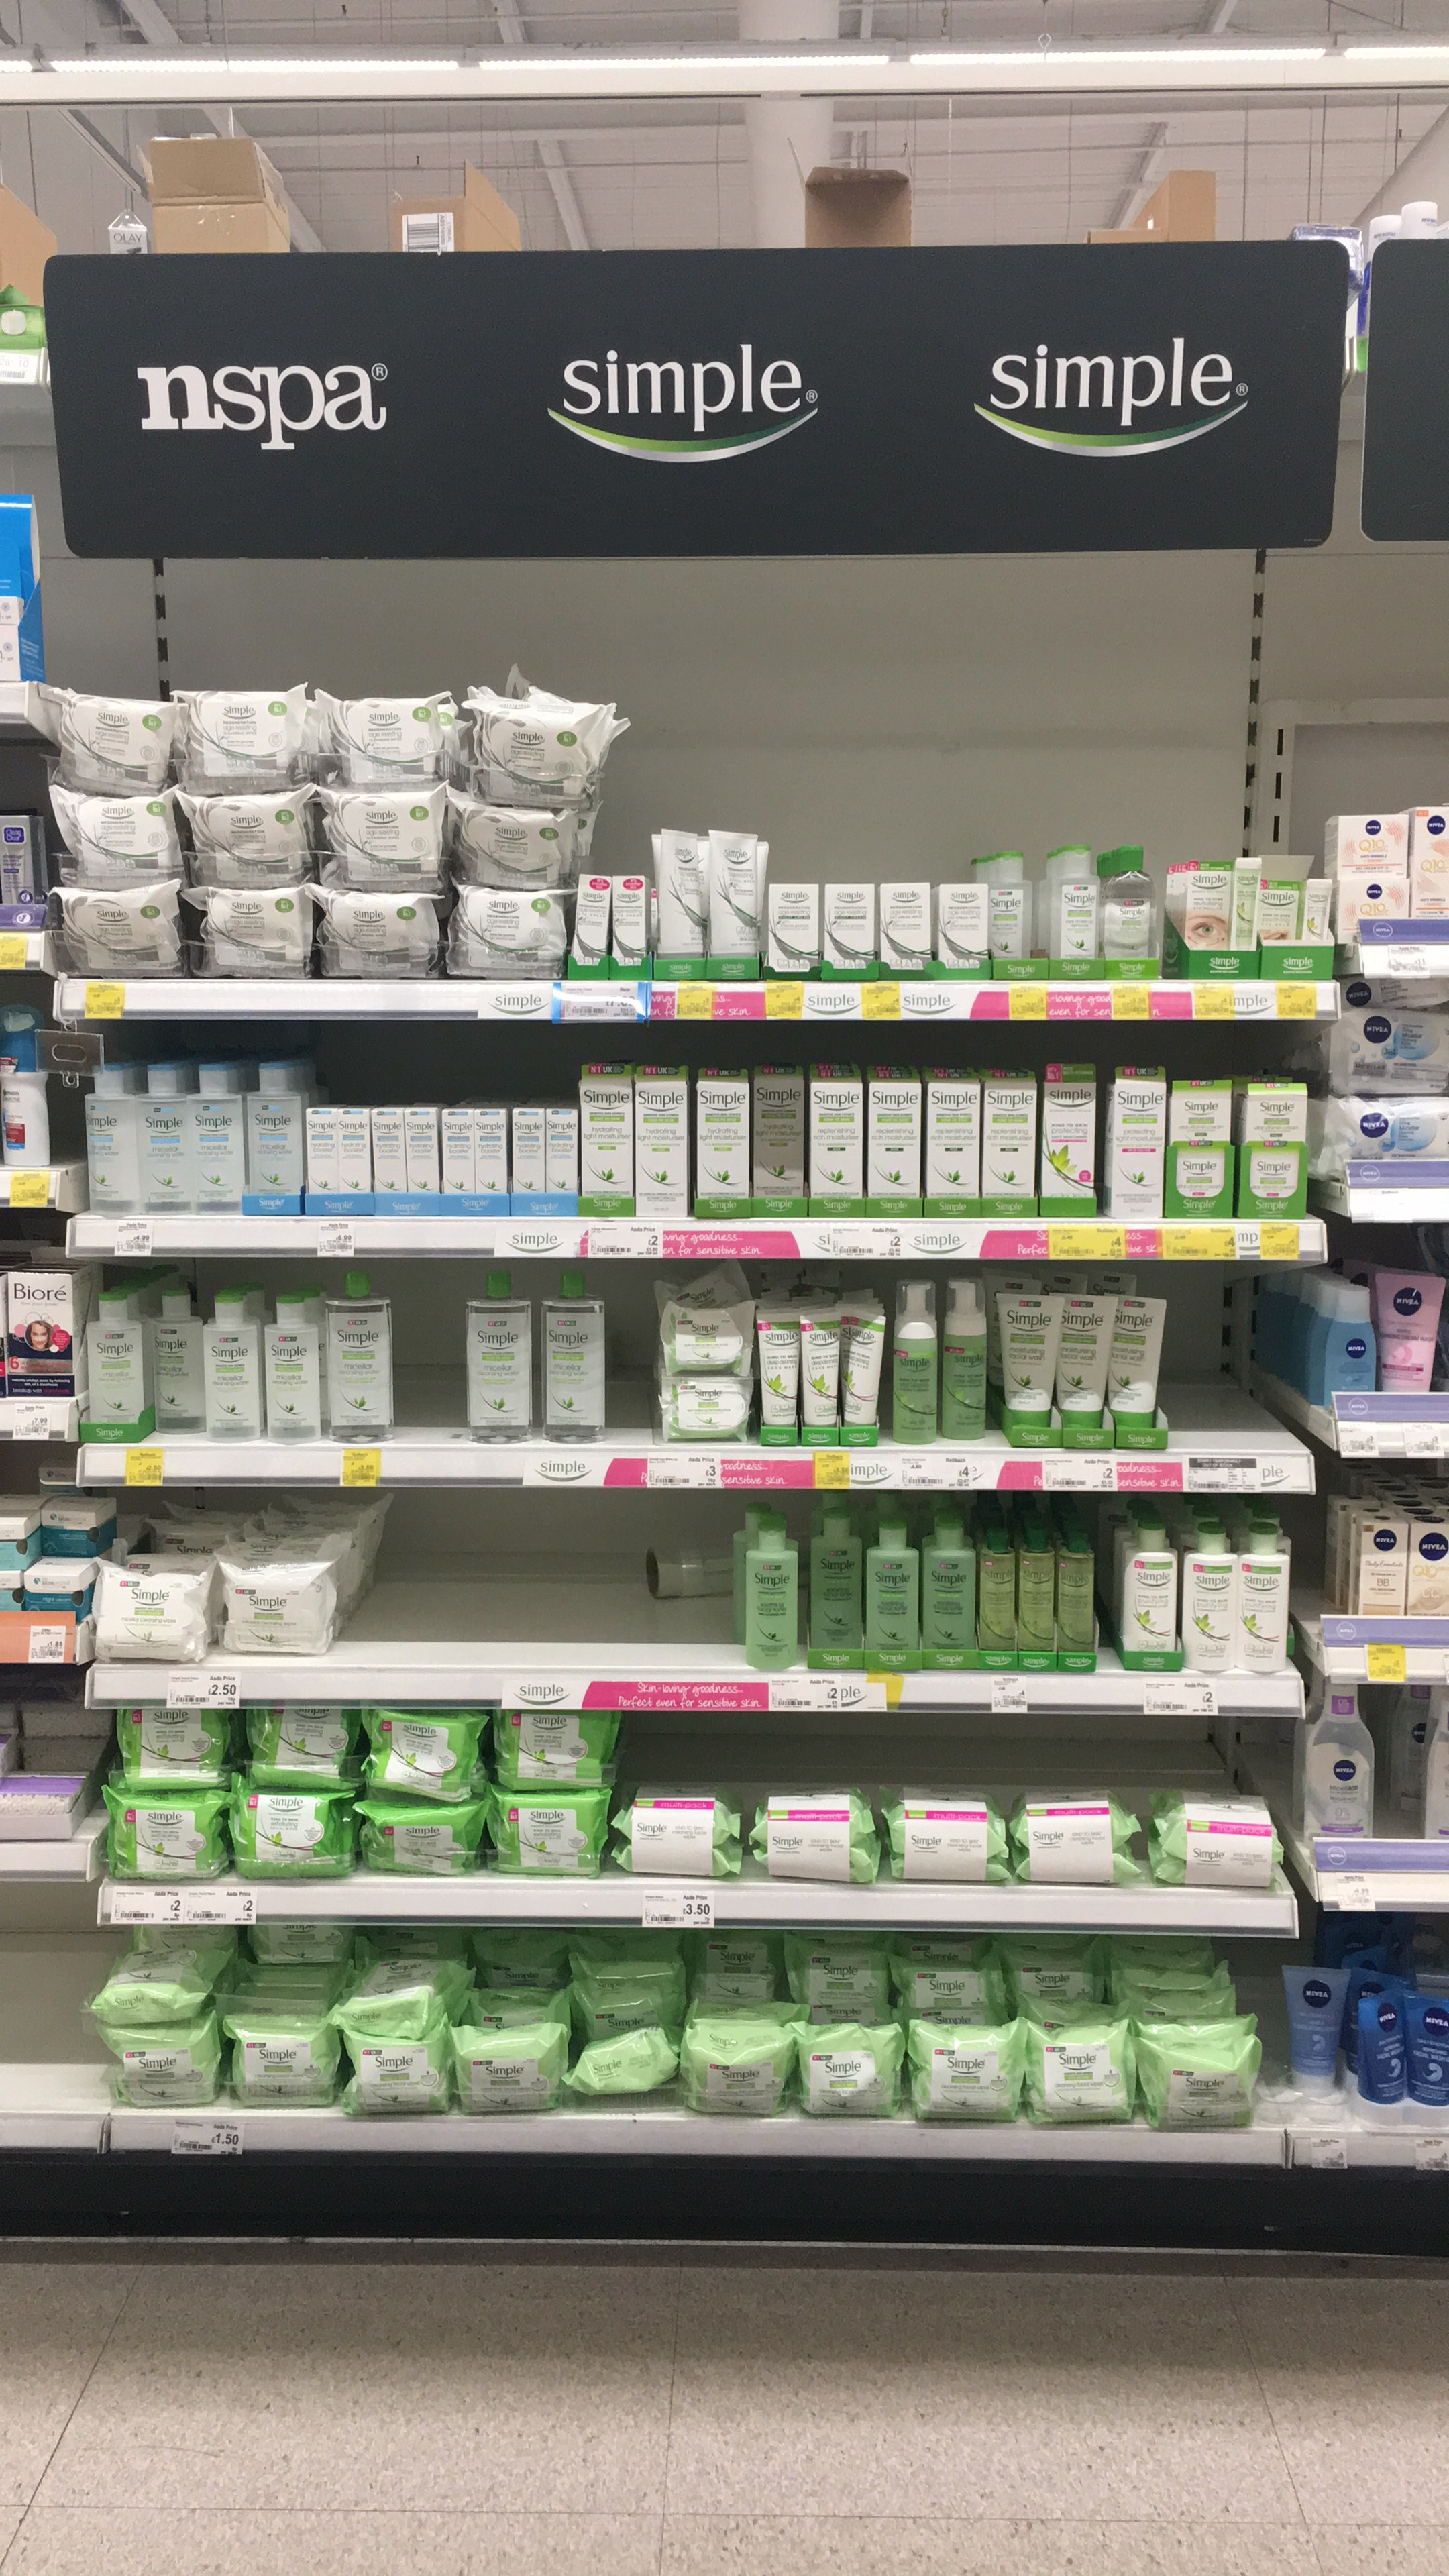Out-of-stock: (1159, 1260, 1316, 1456)
